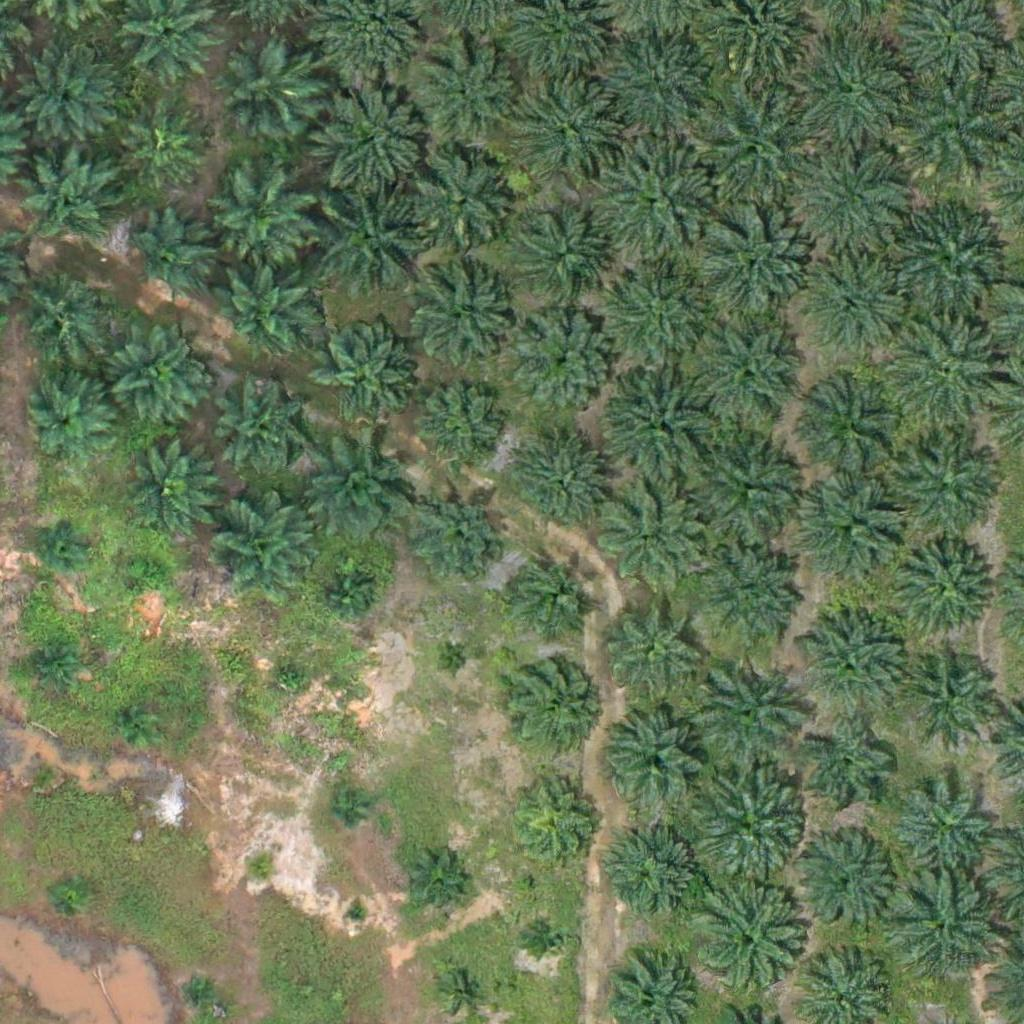Kelapa_Sawit: (595, 362, 720, 488), (592, 255, 717, 381), (592, 133, 717, 259), (692, 77, 817, 203), (693, 206, 818, 332), (686, 426, 811, 552), (788, 144, 913, 270), (789, 34, 914, 160), (886, 197, 1011, 323), (882, 308, 1007, 434), (306, 75, 431, 200), (684, 763, 809, 888), (684, 882, 809, 1007), (595, 37, 708, 151), (315, 186, 428, 299), (306, 435, 419, 548), (691, 319, 804, 432), (899, 79, 1012, 192), (891, 874, 1004, 987), (796, 609, 909, 722), (693, 540, 806, 653), (690, 658, 803, 771), (798, 369, 910, 482), (887, 435, 999, 548), (595, 485, 707, 598), (213, 259, 313, 360), (108, 328, 208, 429), (19, 52, 119, 153), (19, 146, 119, 247), (12, 265, 112, 366), (314, 326, 414, 427), (411, 274, 511, 375), (409, 153, 509, 254), (414, 41, 514, 142), (522, 83, 622, 184), (515, 312, 615, 413), (511, 437, 611, 538), (895, 775, 995, 876), (799, 721, 899, 822), (794, 830, 894, 931), (597, 591, 697, 692), (608, 708, 708, 809), (605, 827, 705, 928), (500, 546, 600, 647), (502, 652, 602, 753), (507, 773, 607, 874), (213, 500, 313, 601), (221, 43, 321, 143), (209, 169, 309, 269), (810, 264, 910, 364), (892, 537, 992, 637), (901, 645, 1001, 745), (804, 481, 904, 581), (116, 440, 216, 540), (128, 213, 216, 301), (121, 105, 209, 193), (215, 383, 303, 471), (518, 217, 606, 305), (26, 380, 113, 469), (415, 491, 502, 580), (414, 384, 501, 472), (402, 854, 465, 917), (321, 568, 371, 619), (27, 642, 77, 692), (40, 519, 90, 569), (130, 554, 168, 592), (121, 705, 159, 743), (273, 661, 311, 699), (435, 642, 473, 680), (241, 851, 279, 889), (532, 920, 570, 958), (444, 970, 481, 1008), (325, 790, 362, 828), (22, 751, 59, 789), (53, 874, 90, 911), (184, 972, 221, 1009), (344, 900, 369, 925)
